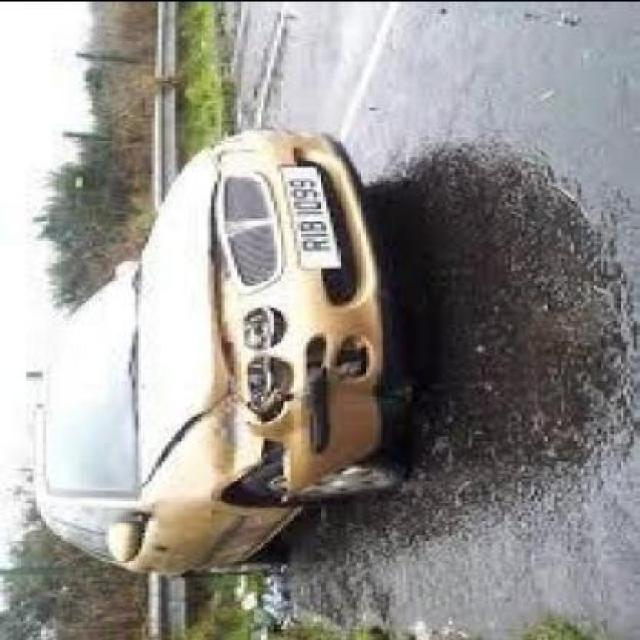damage: (136, 171, 401, 494)
